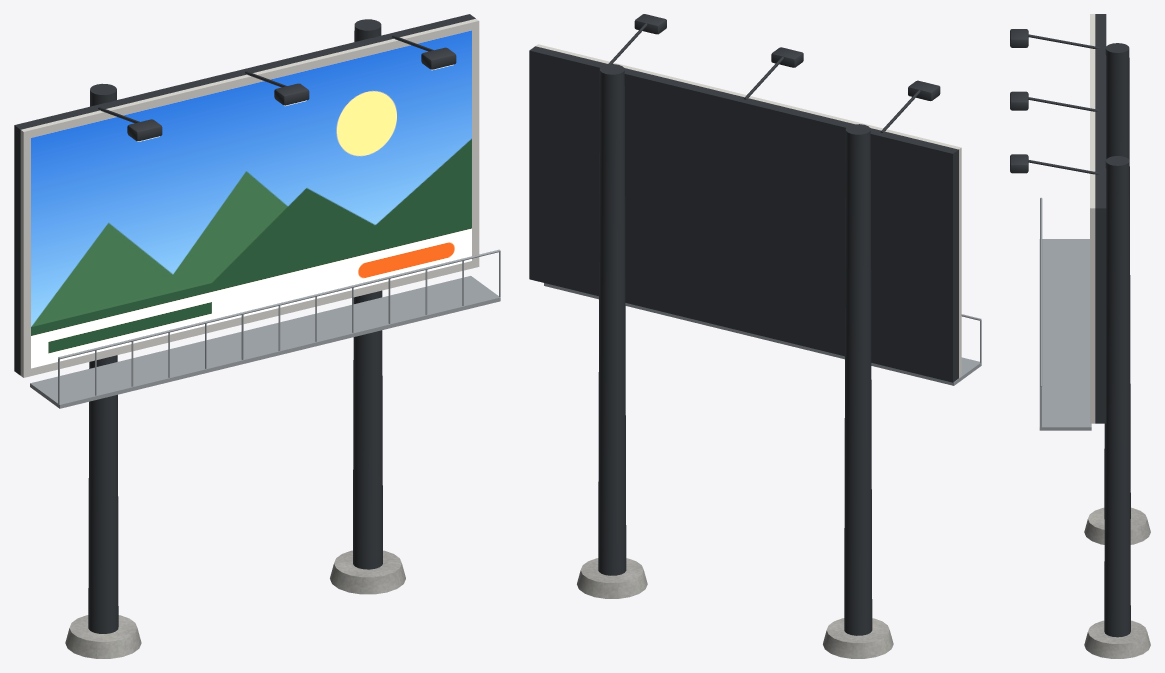
File: billboard.glb
3 renders of one model, left to right at view 1: azimuth 30°, elevation 25°; view 2: azimuth 150°, elevation 25°; view 3: azimuth 270°, elevation 25°, orthographic. The views are drawn at different scales.
Parts seen in each view (by area): view 1: Billboard; view 2: Billboard; view 3: Billboard.
Part boxes in pixels (x1,y1,x2,y2): Billboard: [14, 14, 500, 658]; Billboard: [529, 14, 981, 658]; Billboard: [1010, 14, 1150, 658].
Bounding box in the file's own units: 6.2 × 7.32 × 1.9.
6 materials, 2 textured.
